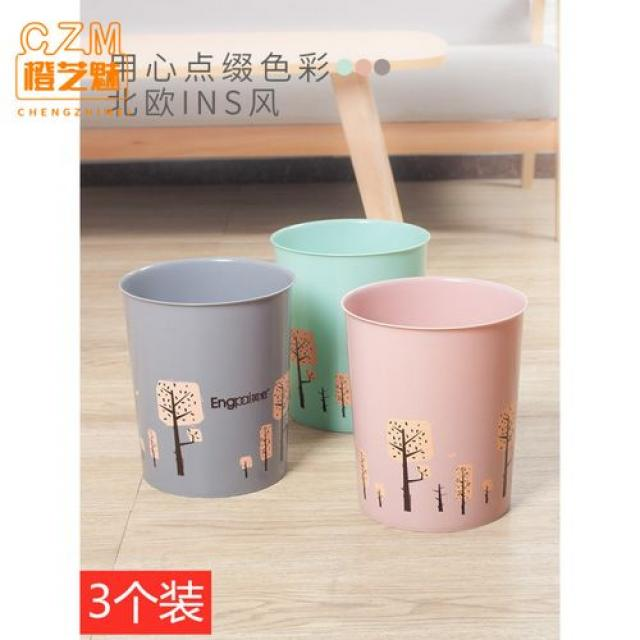Dustbin: (339, 272, 530, 536), (116, 255, 300, 502), (269, 216, 434, 436)
